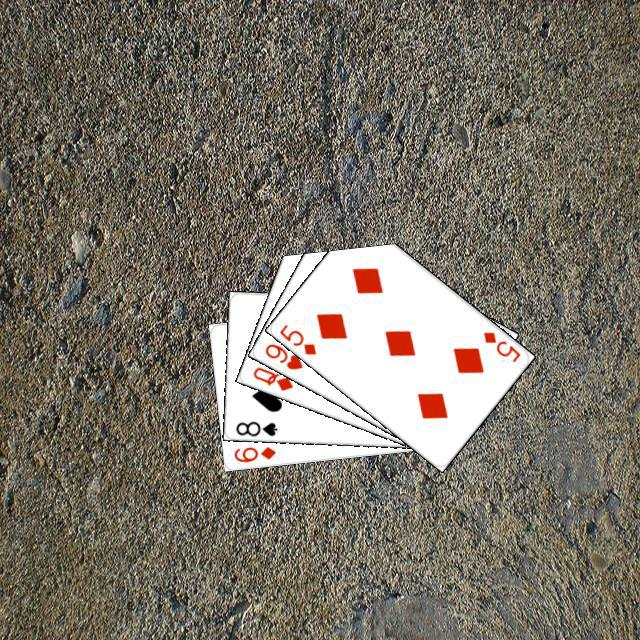5d: (275, 319, 318, 357), (478, 327, 522, 364)
6d: (229, 441, 278, 464)
8s: (231, 416, 279, 438)
9h: (260, 339, 305, 372)
Qd: (248, 362, 295, 393)
